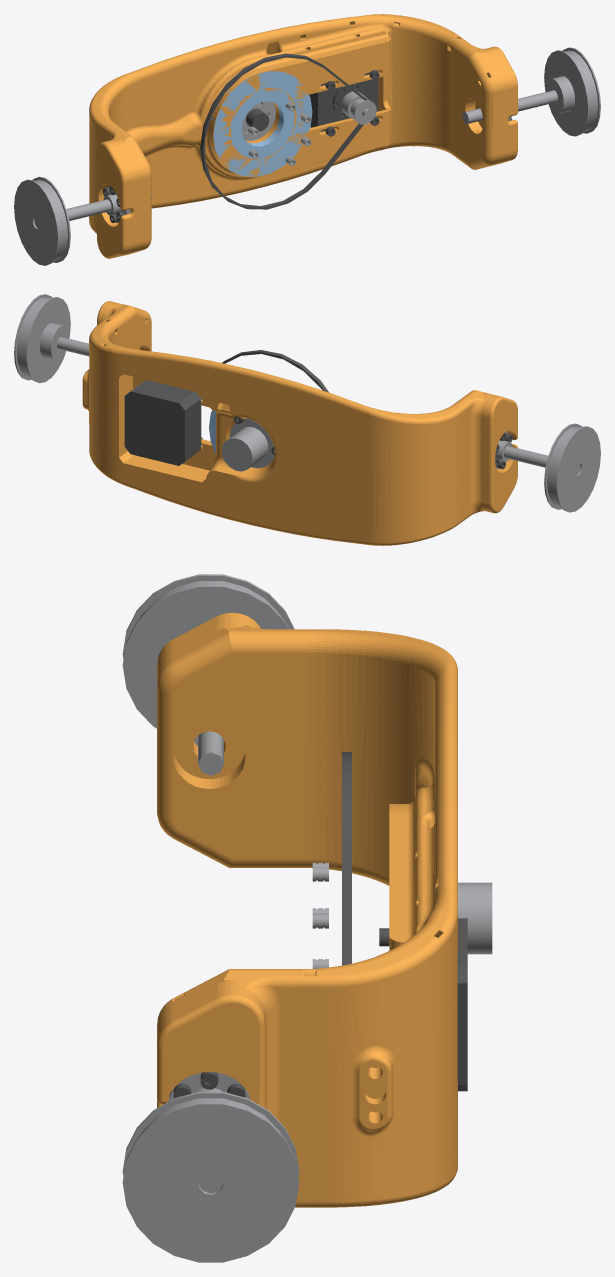
File: tilt.glb
3 views of the same model, one above another, from view 1: azimuth 30°, elevation 25°; view 2: azimuth 150°, elevation 25°; view 3: azimuth 270°, elevation 25° (orthographic). The views are drawn at different scales.
Size of the model in its own units: 383 by 104 by 113.
